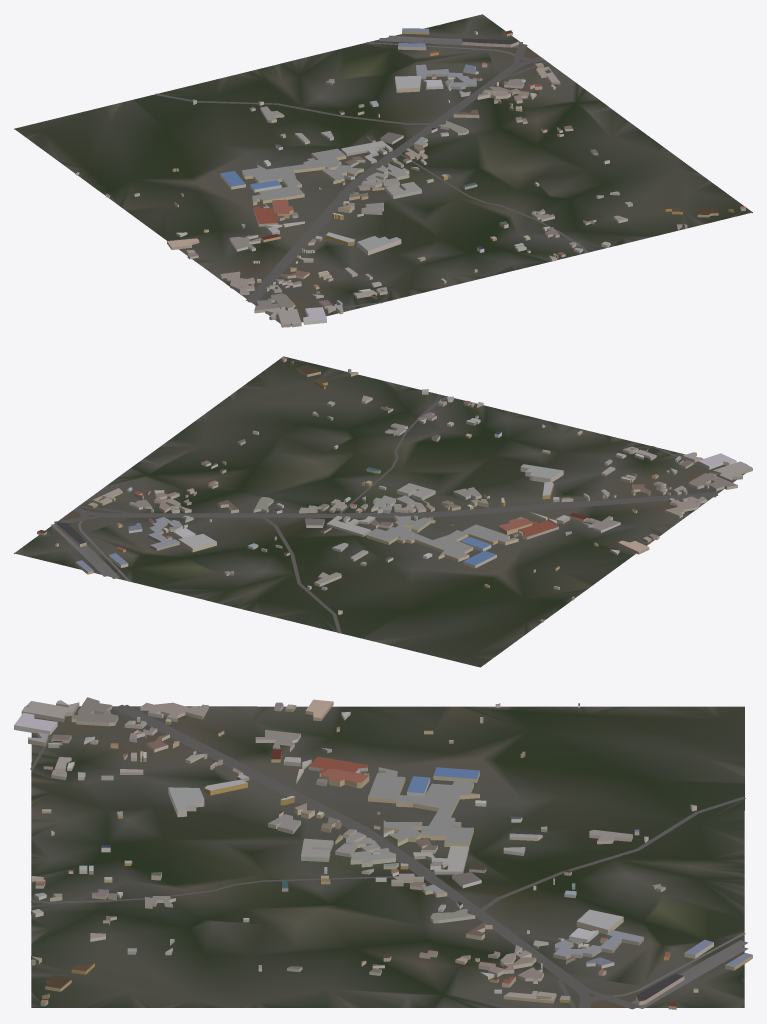
3 views of the same model, one above another, from view 1: azimuth 30°, elevation 25°; view 2: azimuth 150°, elevation 25°; view 3: azimuth 270°, elevation 25° (orthographic). The views are drawn at different scales.
Visible parts, largest first — view 1: ground, buildings, roads; view 2: ground, buildings, roads; view 3: ground, buildings, roads.
Part boxes in pixels (x1,y1,x2,y2): ground: [14, 14, 752, 323]; buildings: [75, 28, 745, 327]; roads: [155, 35, 588, 310]; ground: [14, 356, 745, 667]; buildings: [37, 357, 752, 622]; roads: [51, 396, 717, 633]; ground: [31, 706, 744, 1007]; buildings: [14, 697, 752, 1009]; roads: [30, 704, 748, 1009].
Bounding box in the file's own units: 1435 × 16.91 × 1451.
